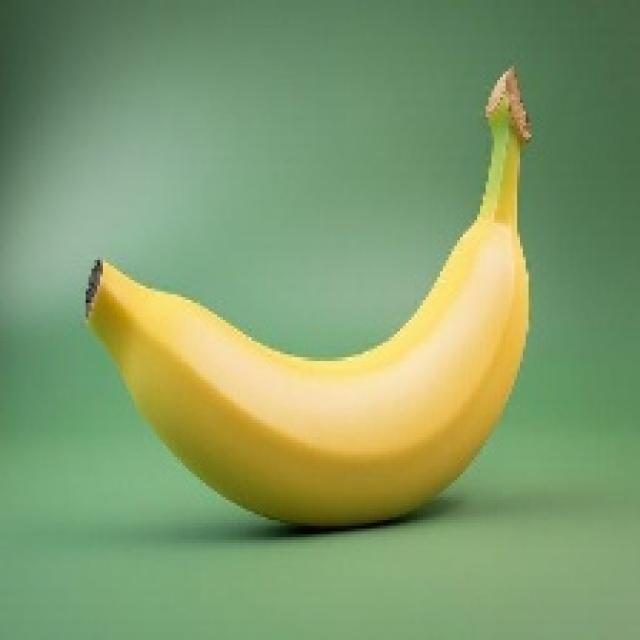Banana: (83, 63, 531, 528)
